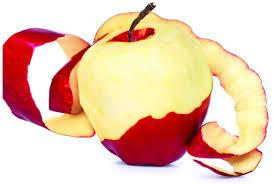Organic: (3, 10, 274, 176)
